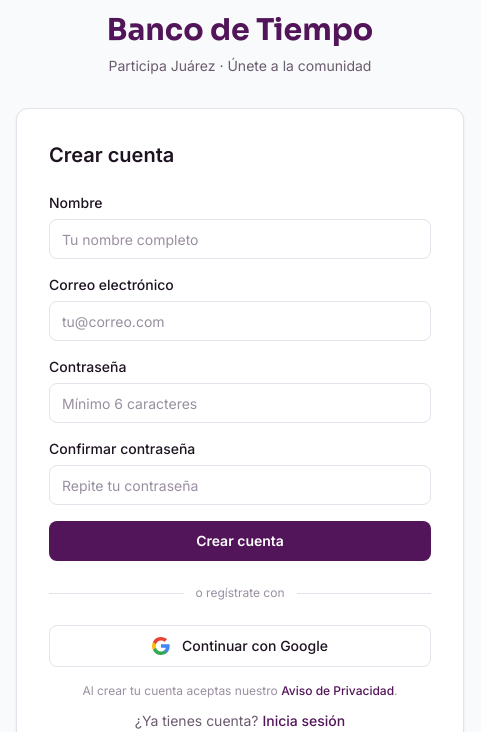
RegisterPage › muestra error si contraseñas no coinciden
Type "Test" into the field with placeholder "Tu nombre completo" at (240, 239), box [49,219,431,259]
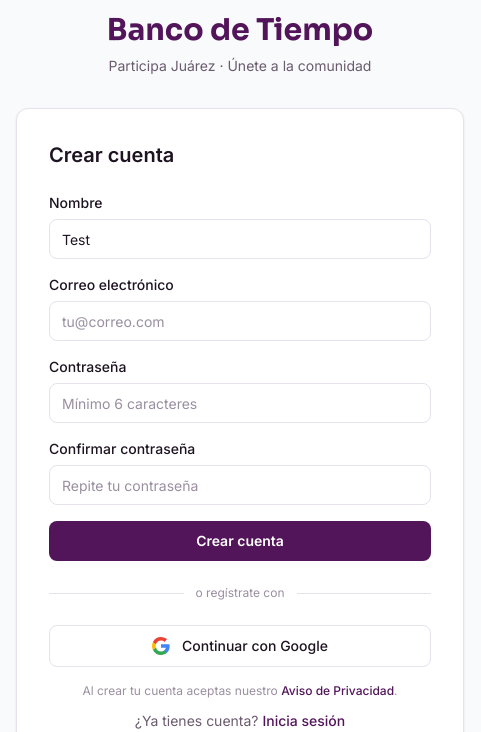
Type "a@b.com" into the field with placeholder "tu@correo.com" at (240, 321), box [49,301,431,341]
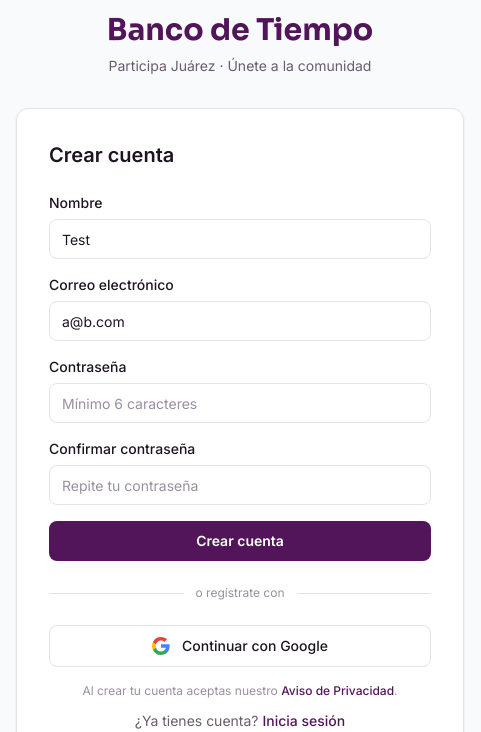
Type "123456" into the password field with placeholder "Mínimo 6 caracteres" at (240, 403), box [49,383,431,423]
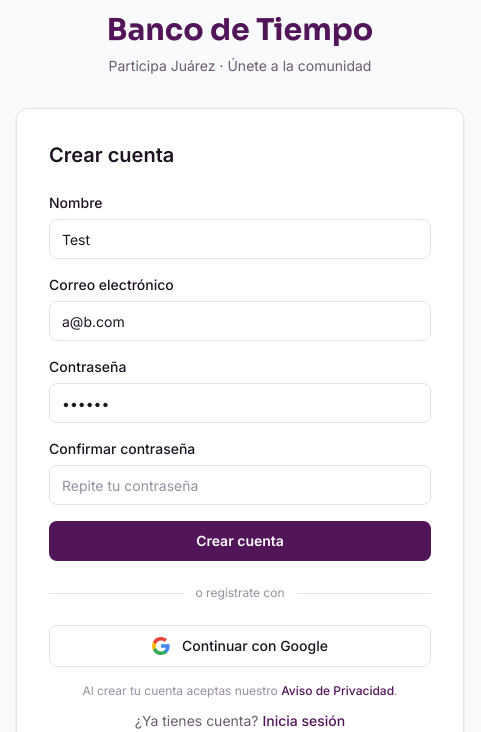
Type "654321" into the password field with placeholder "Repite tu contraseña" at (240, 485), box [49,465,431,505]
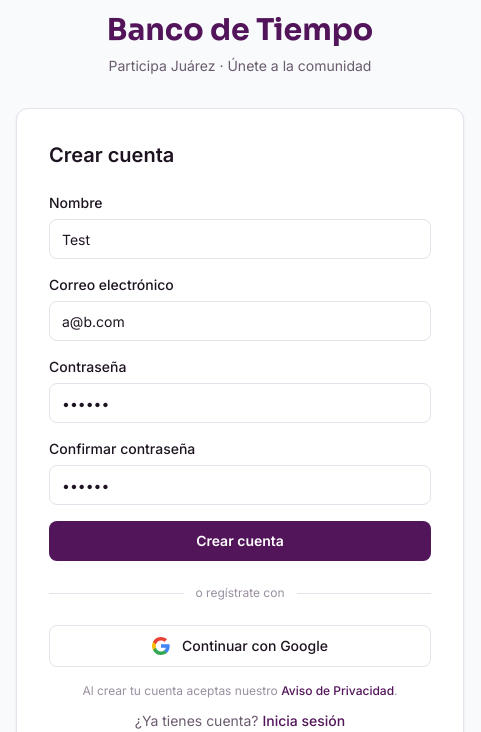
Click the button "Crear cuenta" at (240, 541), box [49,521,431,561]
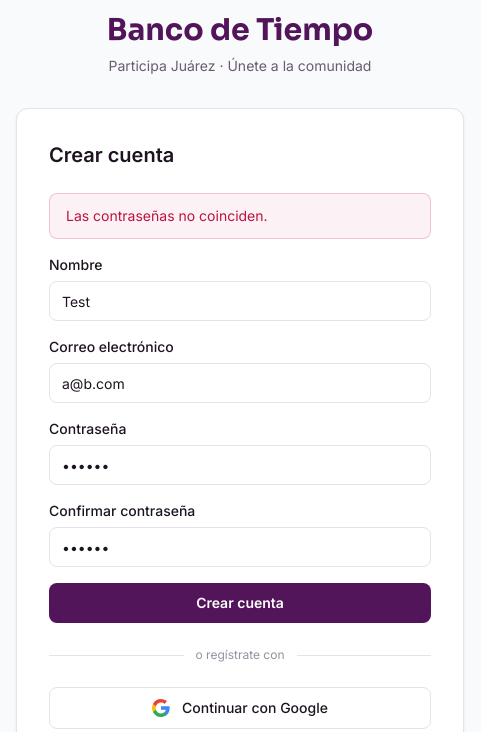
Result: the text "Las contraseñas no coinciden." is shown at [49,193,431,239]
